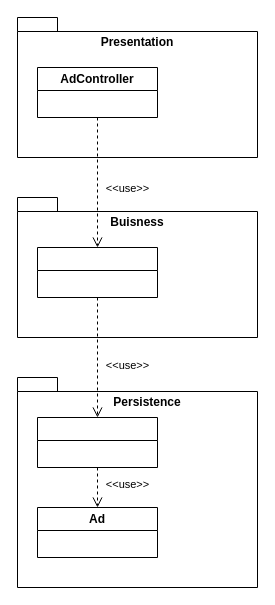
Image size: 275x605. Some labels were removed from this diagram. Each missing label, with the centre of its shape:
AdRepository: the point at 97,442
AdService: the point at 97,272
